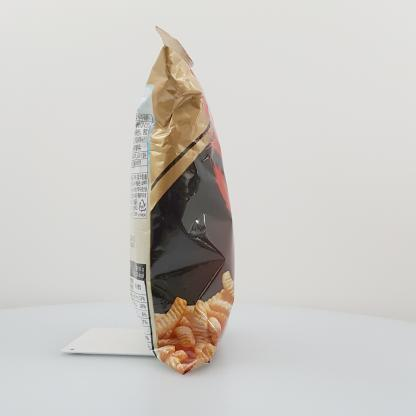Plastic Packaging: (122, 25, 244, 378)
